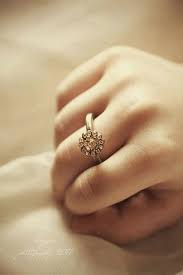hand: (44, 35, 180, 248)
